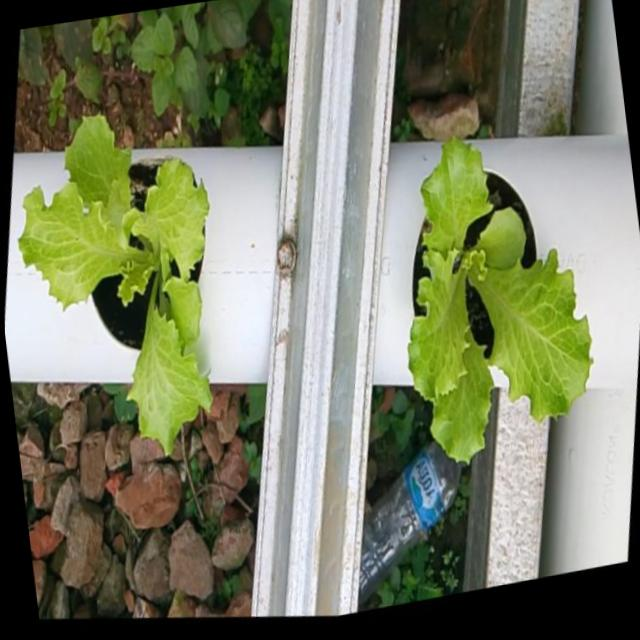Baby: (17, 108, 210, 447), (404, 132, 589, 458)
